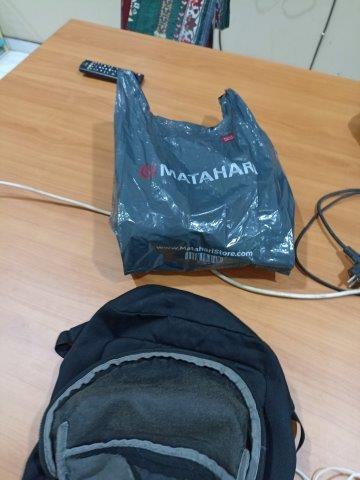plastik: (110, 73, 296, 275)
